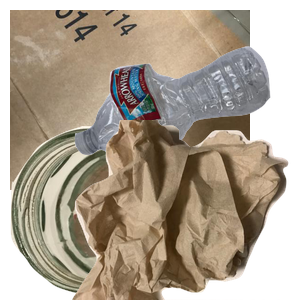cardboard: (10, 10, 250, 190)
glass: (10, 126, 220, 300)
plastic: (72, 44, 300, 200)
trash: (70, 120, 300, 300)
